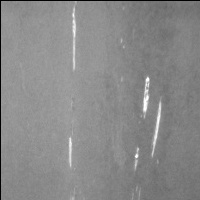scratches: (133, 93, 165, 165), (67, 2, 82, 74), (137, 73, 155, 124), (64, 132, 76, 173)
